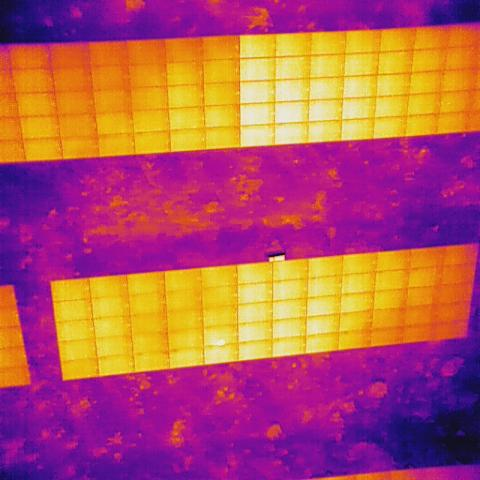fault: (214, 336, 230, 348)
